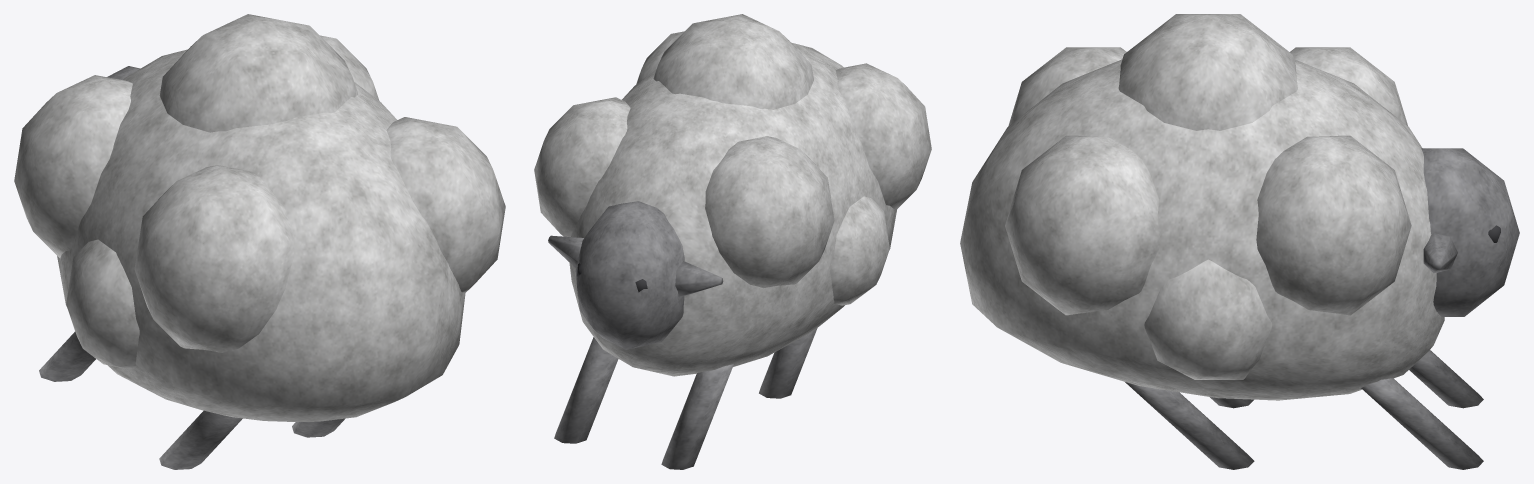
File: mob_domba_walk1.obj
3 views of the same model, side by side, from view 1: azimuth 30°, elevation 25°; view 2: azimuth 150°, elevation 25°; view 3: azimuth 270°, elevation 25° (orthographic). The views are drawn at different scales.
Parts seen in each view (by area): view 1: mob_domba_walk1; view 2: mob_domba_walk1; view 3: mob_domba_walk1.
Boxes of the visible parts, <box> form: mob_domba_walk1: <box>14,14,505,469</box>; mob_domba_walk1: <box>534,14,931,469</box>; mob_domba_walk1: <box>960,14,1519,469</box>.
Bounding box in the file's own units: 0.8371 × 0.9555 × 1.17.
1 material, 1 textured.
